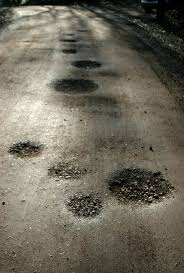pothole: (108, 160, 181, 223), (47, 75, 111, 113), (63, 191, 116, 223), (40, 160, 93, 184), (5, 136, 45, 164), (68, 56, 107, 73), (58, 36, 82, 45), (58, 47, 81, 55)
